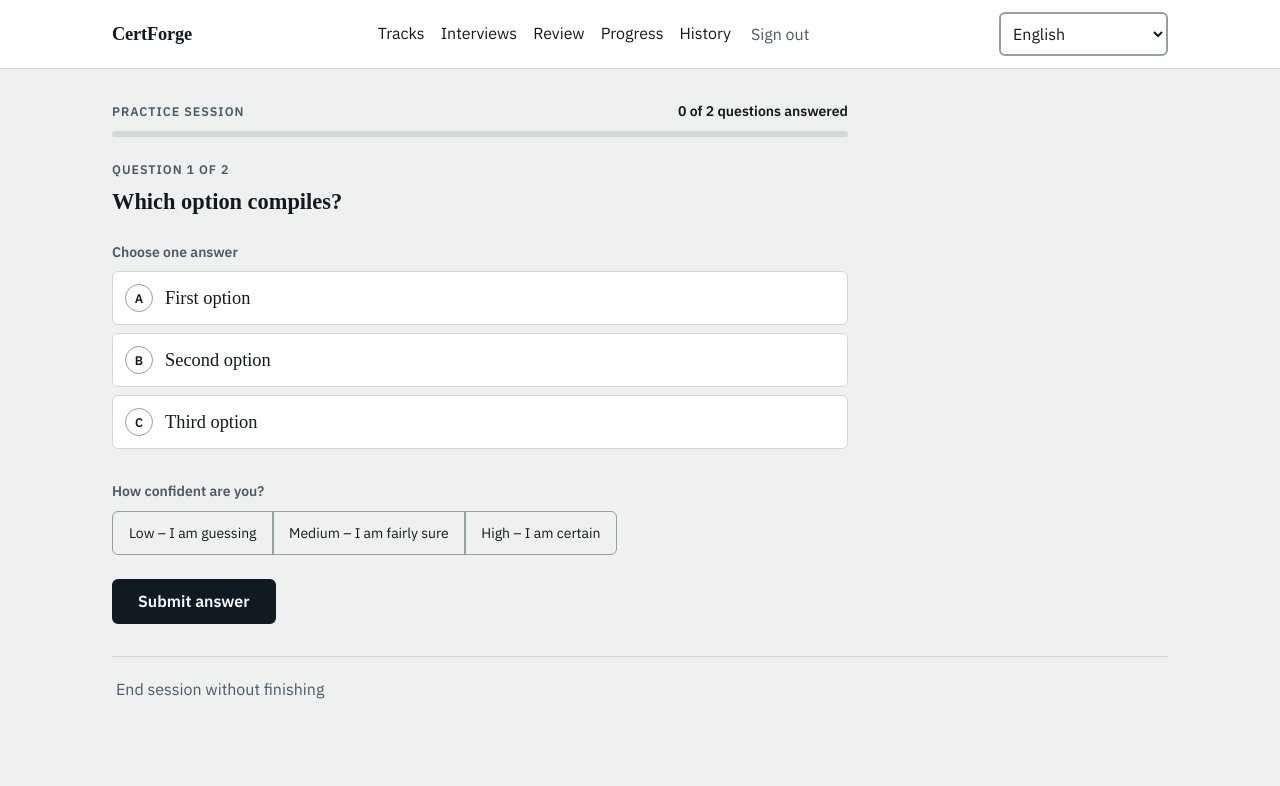
Test: answering questions › says so in words when the answer was wrong
Expected: the heading "Question 1 of 2" is shown, [112, 161, 230, 177]
Click the radio button labelled "Second option". click: (218, 366)
box: [165, 350, 271, 383]
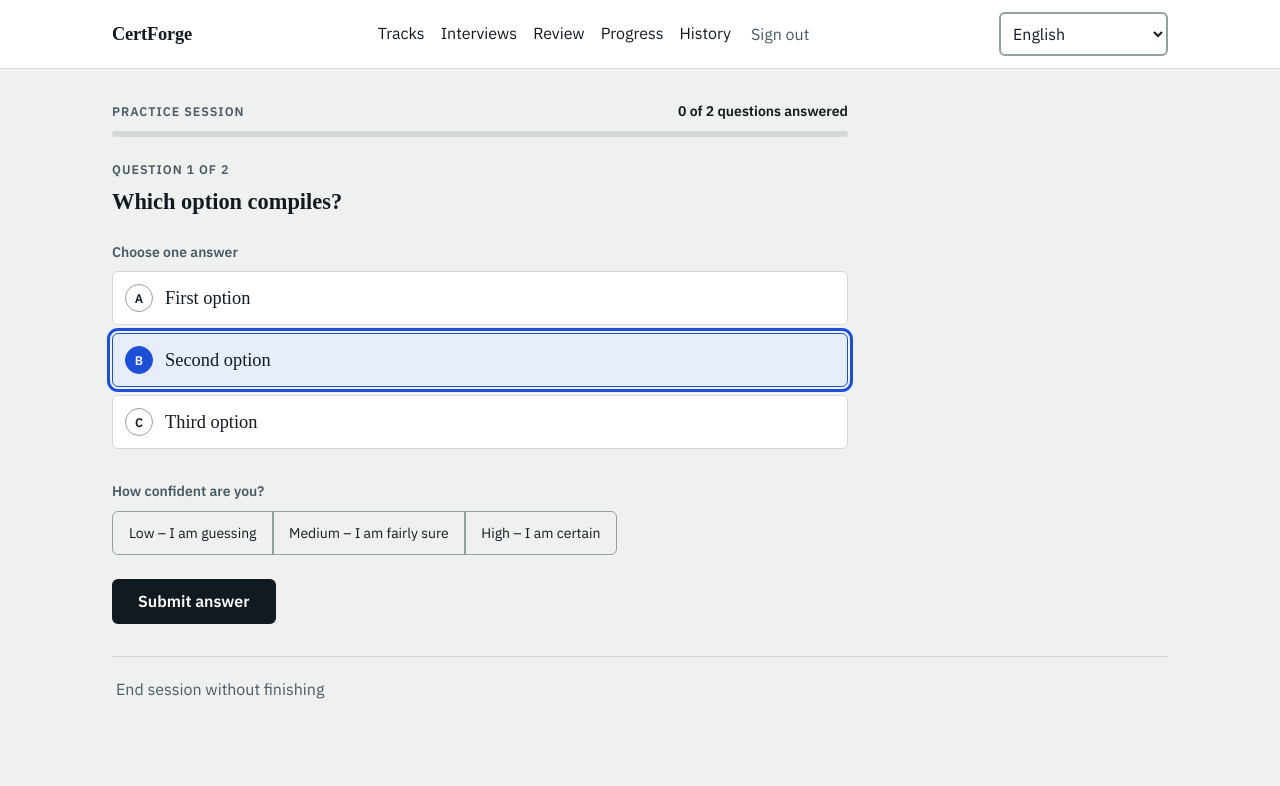
Click the radio button labelled "Low – I am guessing". click: (193, 533)
box: [112, 511, 274, 555]
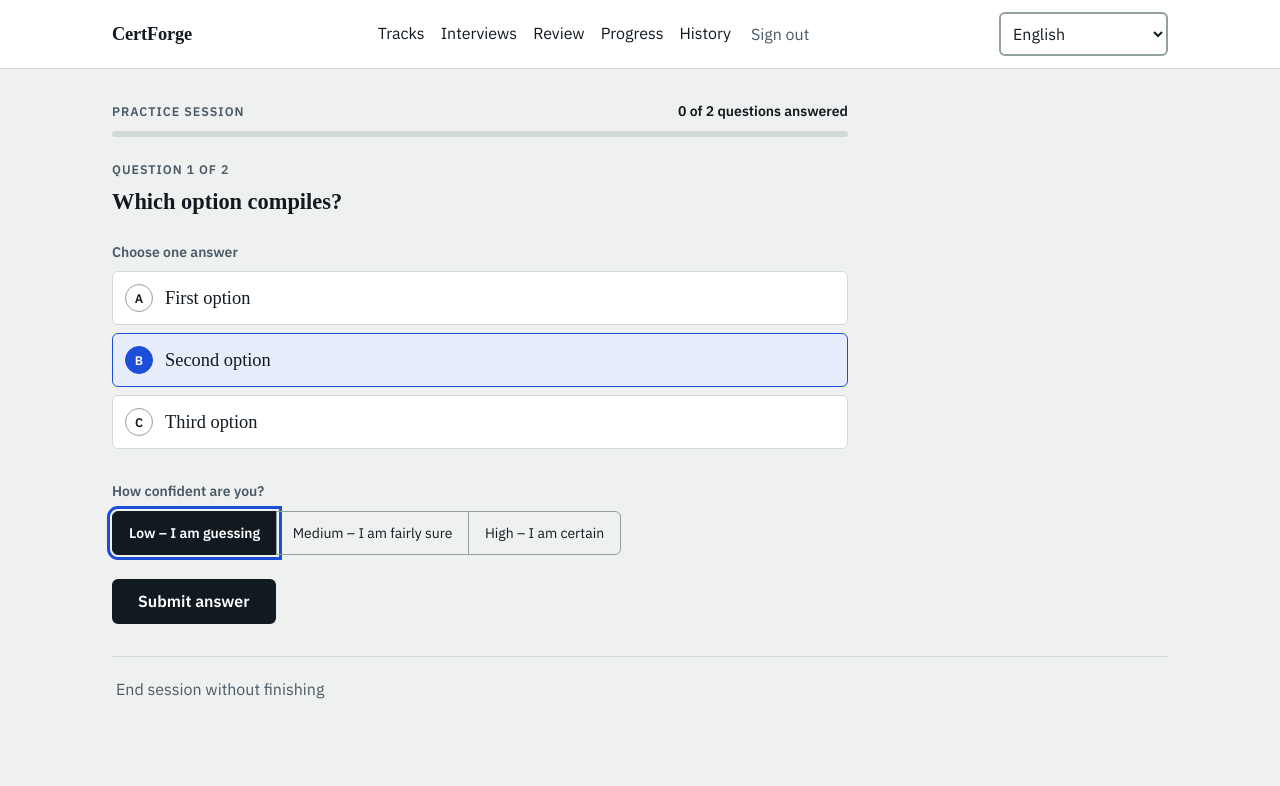
Click the button "Submit answer". click: (194, 601)
box: [112, 579, 276, 624]
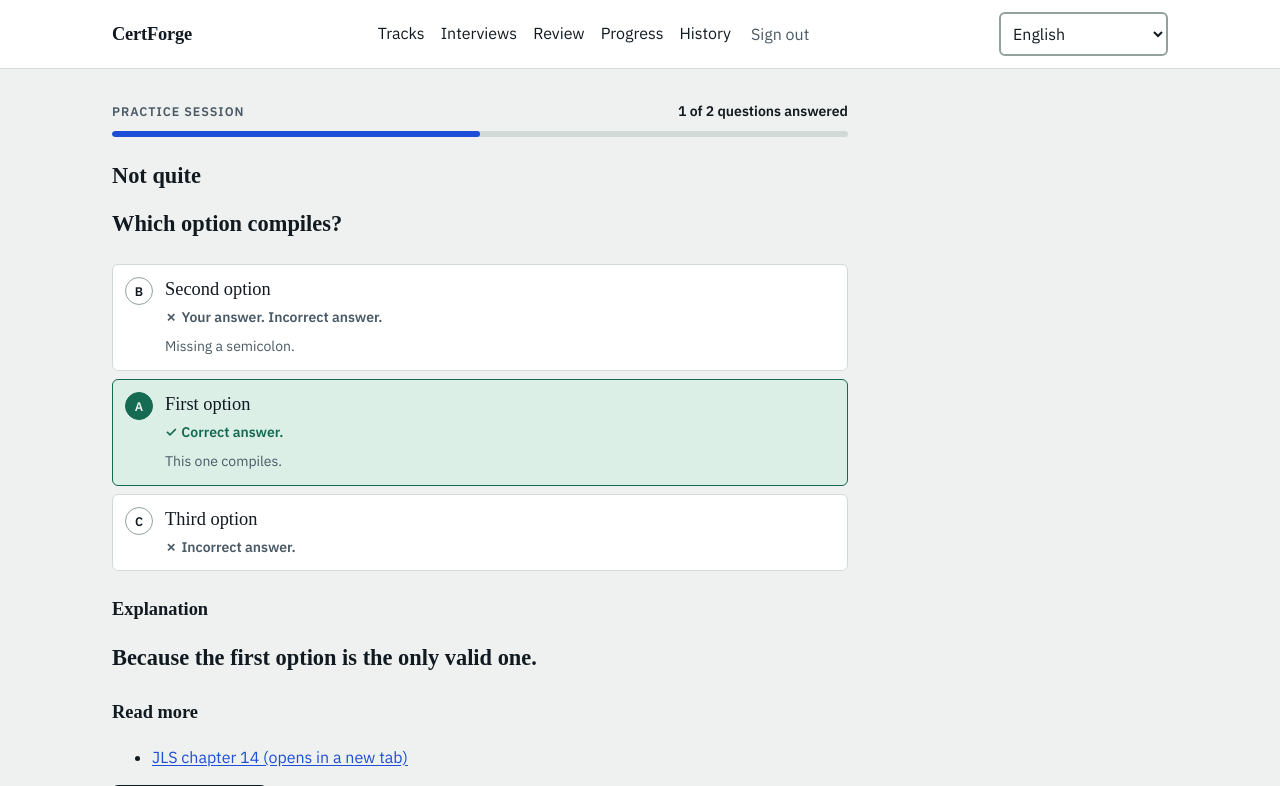
Expected: the heading "Not quite" is shown, [112, 163, 201, 188]
Expected: the text "✗ Your answer. Incorrect answer." is shown, [165, 308, 383, 326]
